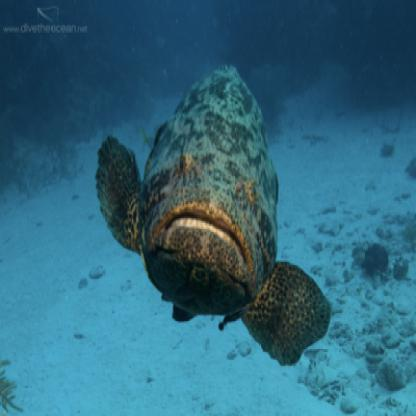Bio: (93, 57, 332, 370)
